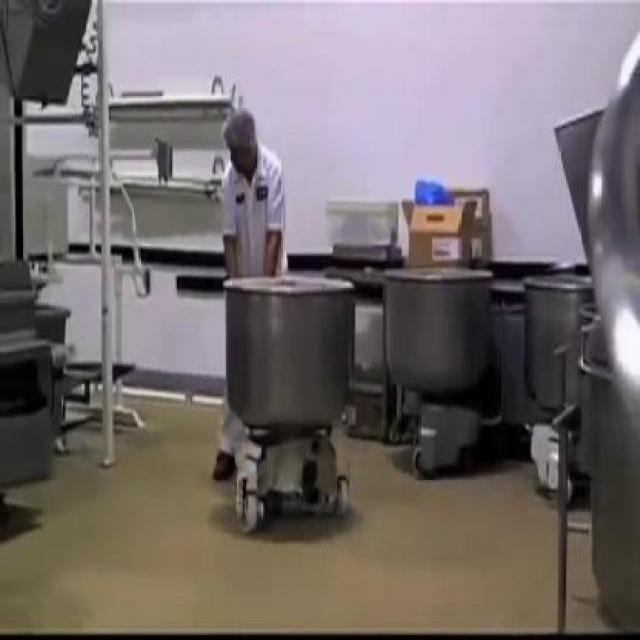hairnet: (221, 107, 258, 153)
